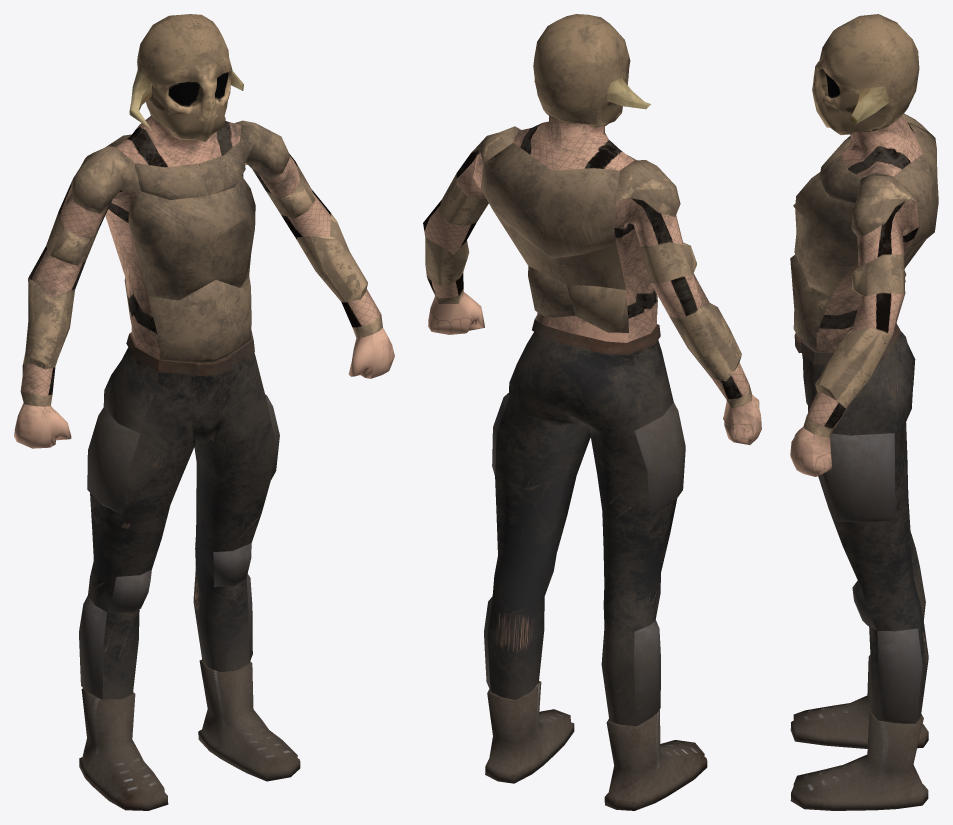
File: Anim_idle_npc1.0031.obj
3 views of the same model, side by side, from view 1: azimuth 30°, elevation 25°; view 2: azimuth 150°, elevation 25°; view 3: azimuth 270°, elevation 25° (orthographic).
Parts seen in each view (by area): view 1: NPC2; view 2: NPC2; view 3: NPC2.
Part boxes in pixels (box(x1,y1,x2,y2)): NPC2: box(14, 14, 394, 810); NPC2: box(423, 14, 761, 810); NPC2: box(790, 14, 938, 810).
Bounding box in the file's own units: 4.73 × 9.66 × 1.73.
